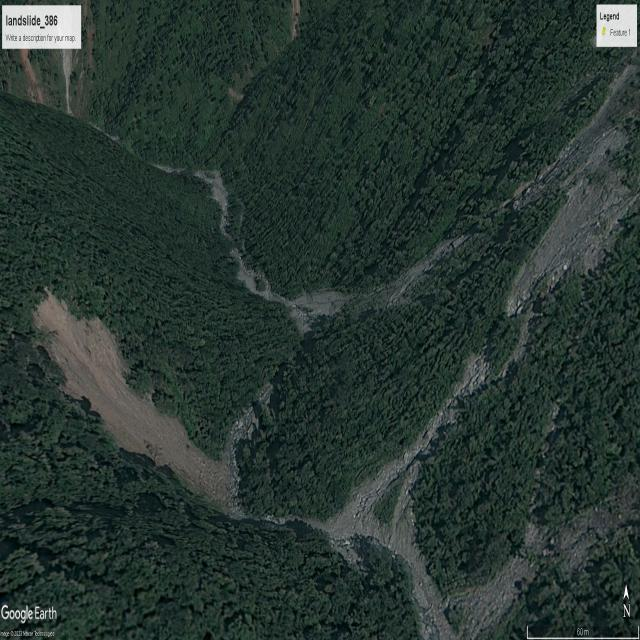Landslide: (36, 293, 239, 513)
